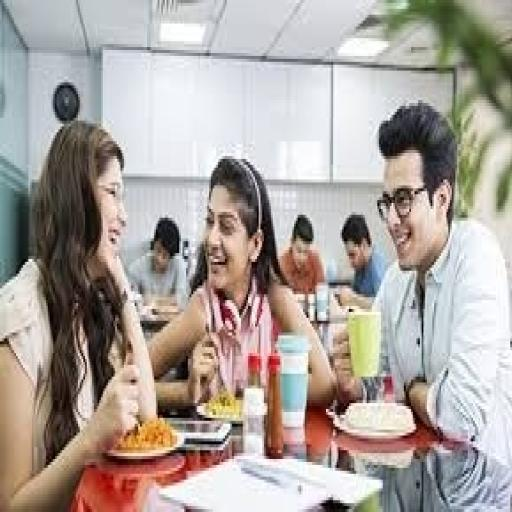eating: (2, 97, 508, 503), (0, 118, 158, 509)
